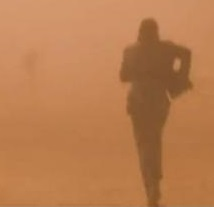person: (115, 13, 199, 207)
